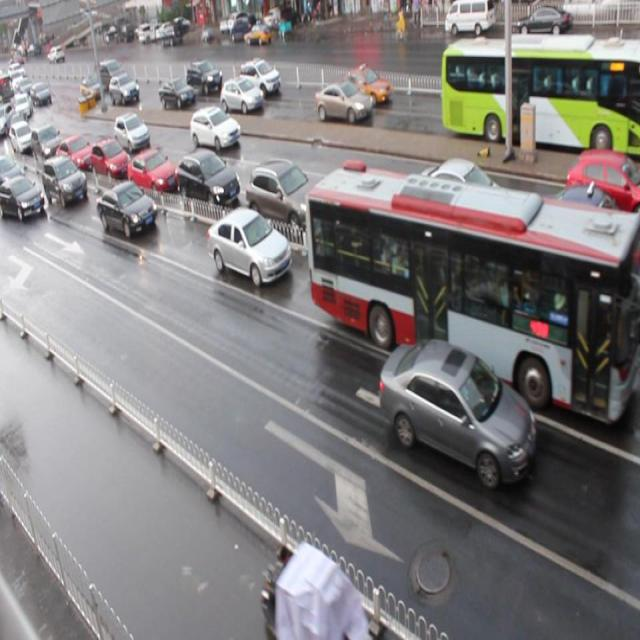car: (376, 339, 534, 489), (529, 185, 640, 274), (414, 156, 513, 236), (340, 186, 430, 270), (207, 205, 292, 288), (246, 158, 327, 233), (565, 147, 640, 224), (95, 181, 157, 239), (176, 149, 240, 205), (314, 80, 373, 124), (190, 107, 241, 154), (128, 145, 177, 193), (42, 156, 87, 208), (1, 177, 45, 221), (343, 67, 391, 106), (221, 76, 264, 114), (56, 132, 93, 175), (90, 137, 127, 176), (240, 61, 281, 95), (116, 111, 149, 153), (159, 76, 197, 111), (31, 125, 62, 164), (1, 155, 27, 196), (109, 73, 141, 106), (186, 64, 222, 92)
truck: (460, 193, 603, 325)
van: (305, 161, 630, 428), (441, 36, 640, 154)
